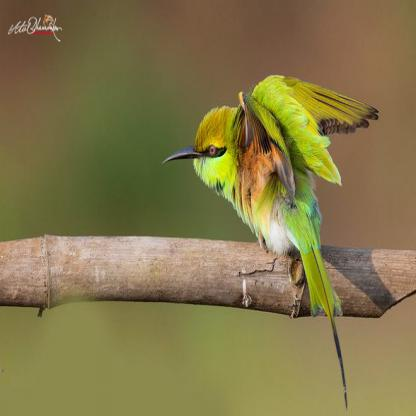Burung: (161, 73, 379, 409)
